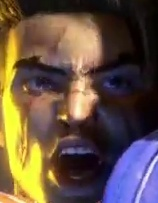kevin: (7, 7, 157, 202)
